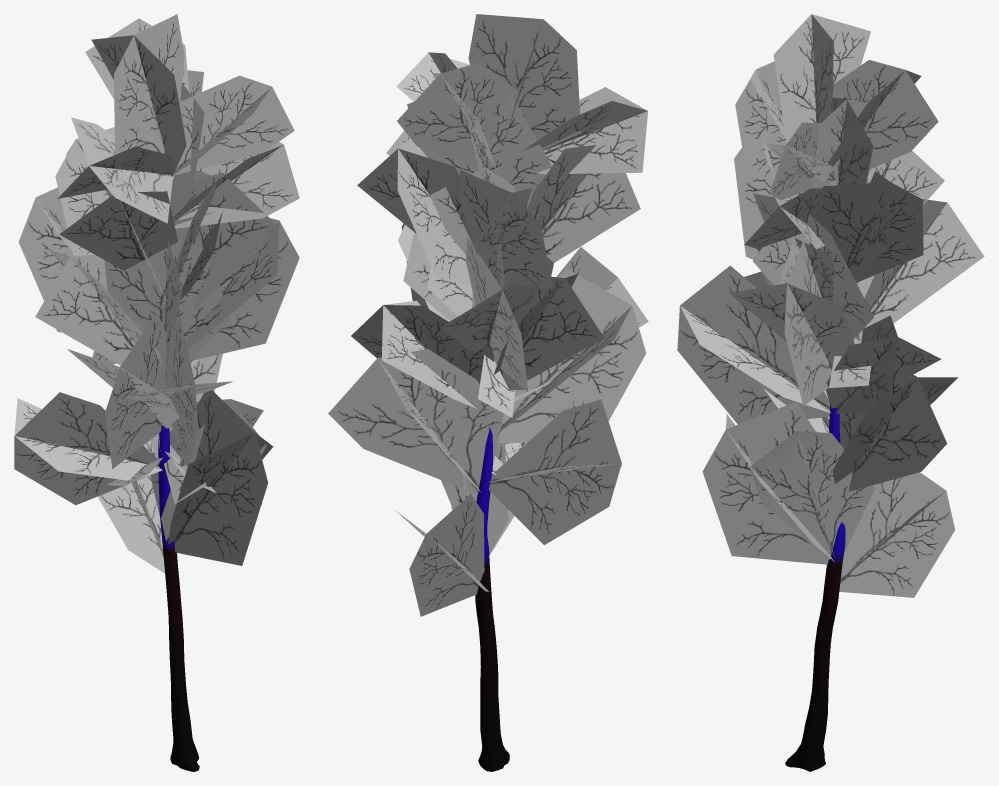
File: Tree_C_06.FBX
3 views of the same model, side by side, from view 1: azimuth 30°, elevation 25°; view 2: azimuth 150°, elevation 25°; view 3: azimuth 270°, elevation 25° (orthographic). The views are drawn at different scales.
Visible parts, largest first — view 1: Tree_C_06_LOD0; view 2: Tree_C_06_LOD0; view 3: Tree_C_06_LOD0.
Part boxes in pixels (box(x1,y1,x2,y2)): Tree_C_06_LOD0: box(14, 14, 299, 771); Tree_C_06_LOD0: box(328, 14, 648, 771); Tree_C_06_LOD0: box(677, 14, 984, 771).
Size of what is drawn, in the model's own units: 287 by 809 by 310.
